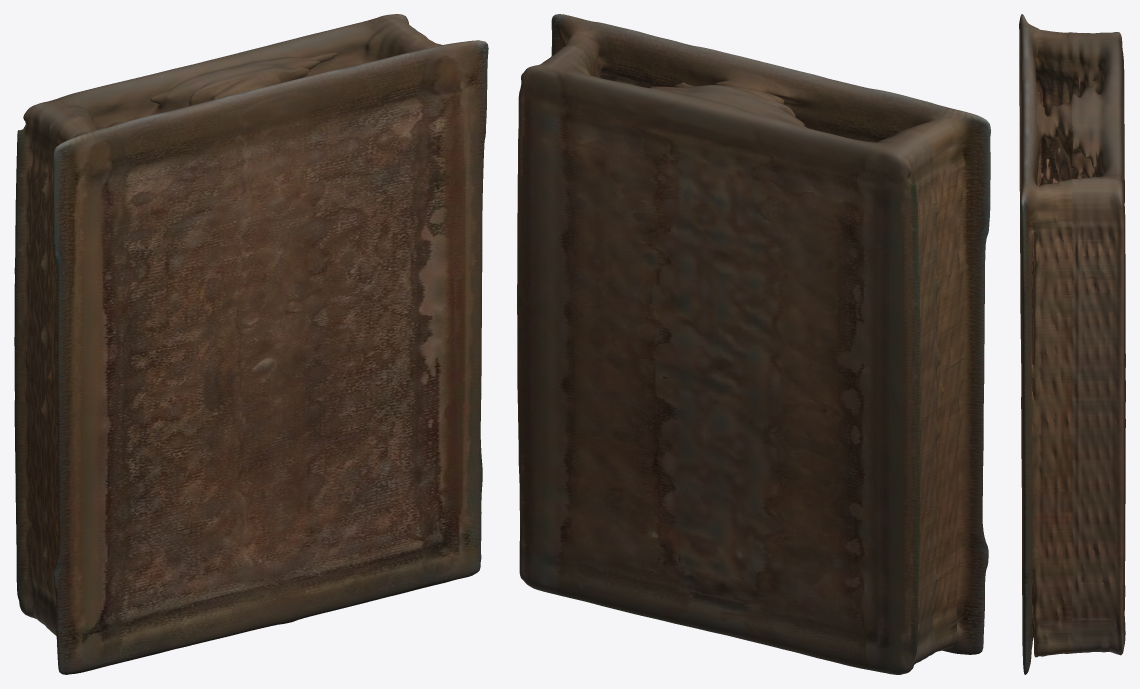
The model's file is kfl-2278.glb.
3 renders of one model, left to right at view 1: azimuth 30°, elevation 25°; view 2: azimuth 150°, elevation 25°; view 3: azimuth 270°, elevation 25°, orthographic. The views are drawn at different scales.
Parts seen in each view (by area): view 1: geometry_0; view 2: geometry_0; view 3: geometry_0.
Boxes of the visible parts, x1=… form: geometry_0: x1=14, y1=14, x2=488, y2=674; geometry_0: x1=517, y1=14, x2=990, y2=674; geometry_0: x1=1019, y1=14, x2=1125, y2=674.
Bounding box in the file's own units: 0.8379 × 0.996 × 0.1983.
Materials: 1 (1 with a texture image).
